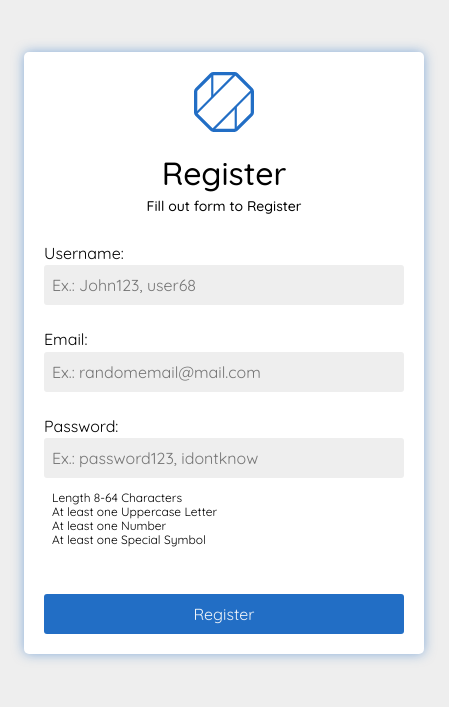
Test case: Register Page › Handles missing fields
This screenshot has width=449, height=707.
Click the button with test id "register" showing "Register": (224, 614) [44, 594, 404, 634]
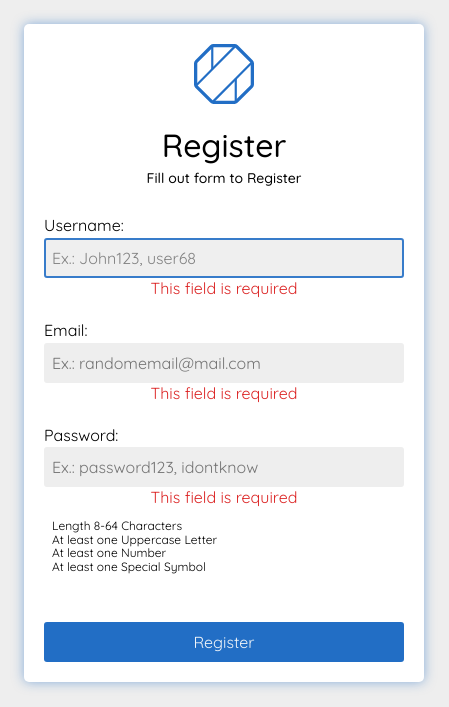
Expected: the text with test id "usernameMissing" is shown, [151, 279, 298, 297]
Expected: the text with test id "emailMissing" is shown, [151, 384, 298, 402]
Expected: the text with test id "passwordMissing" is shown, [151, 488, 298, 506]
